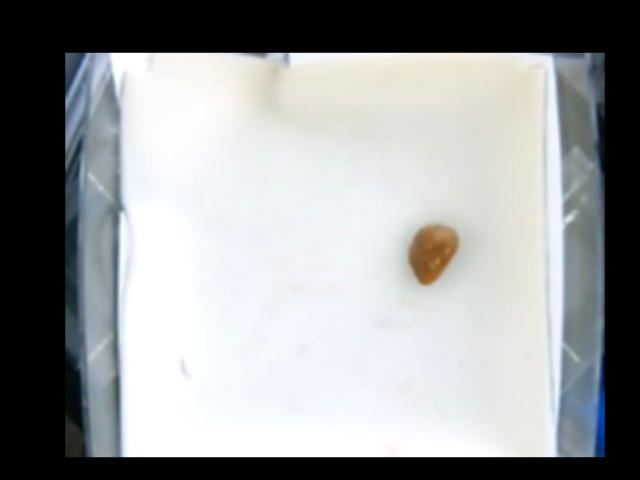Pebble: (410, 223, 467, 286)
